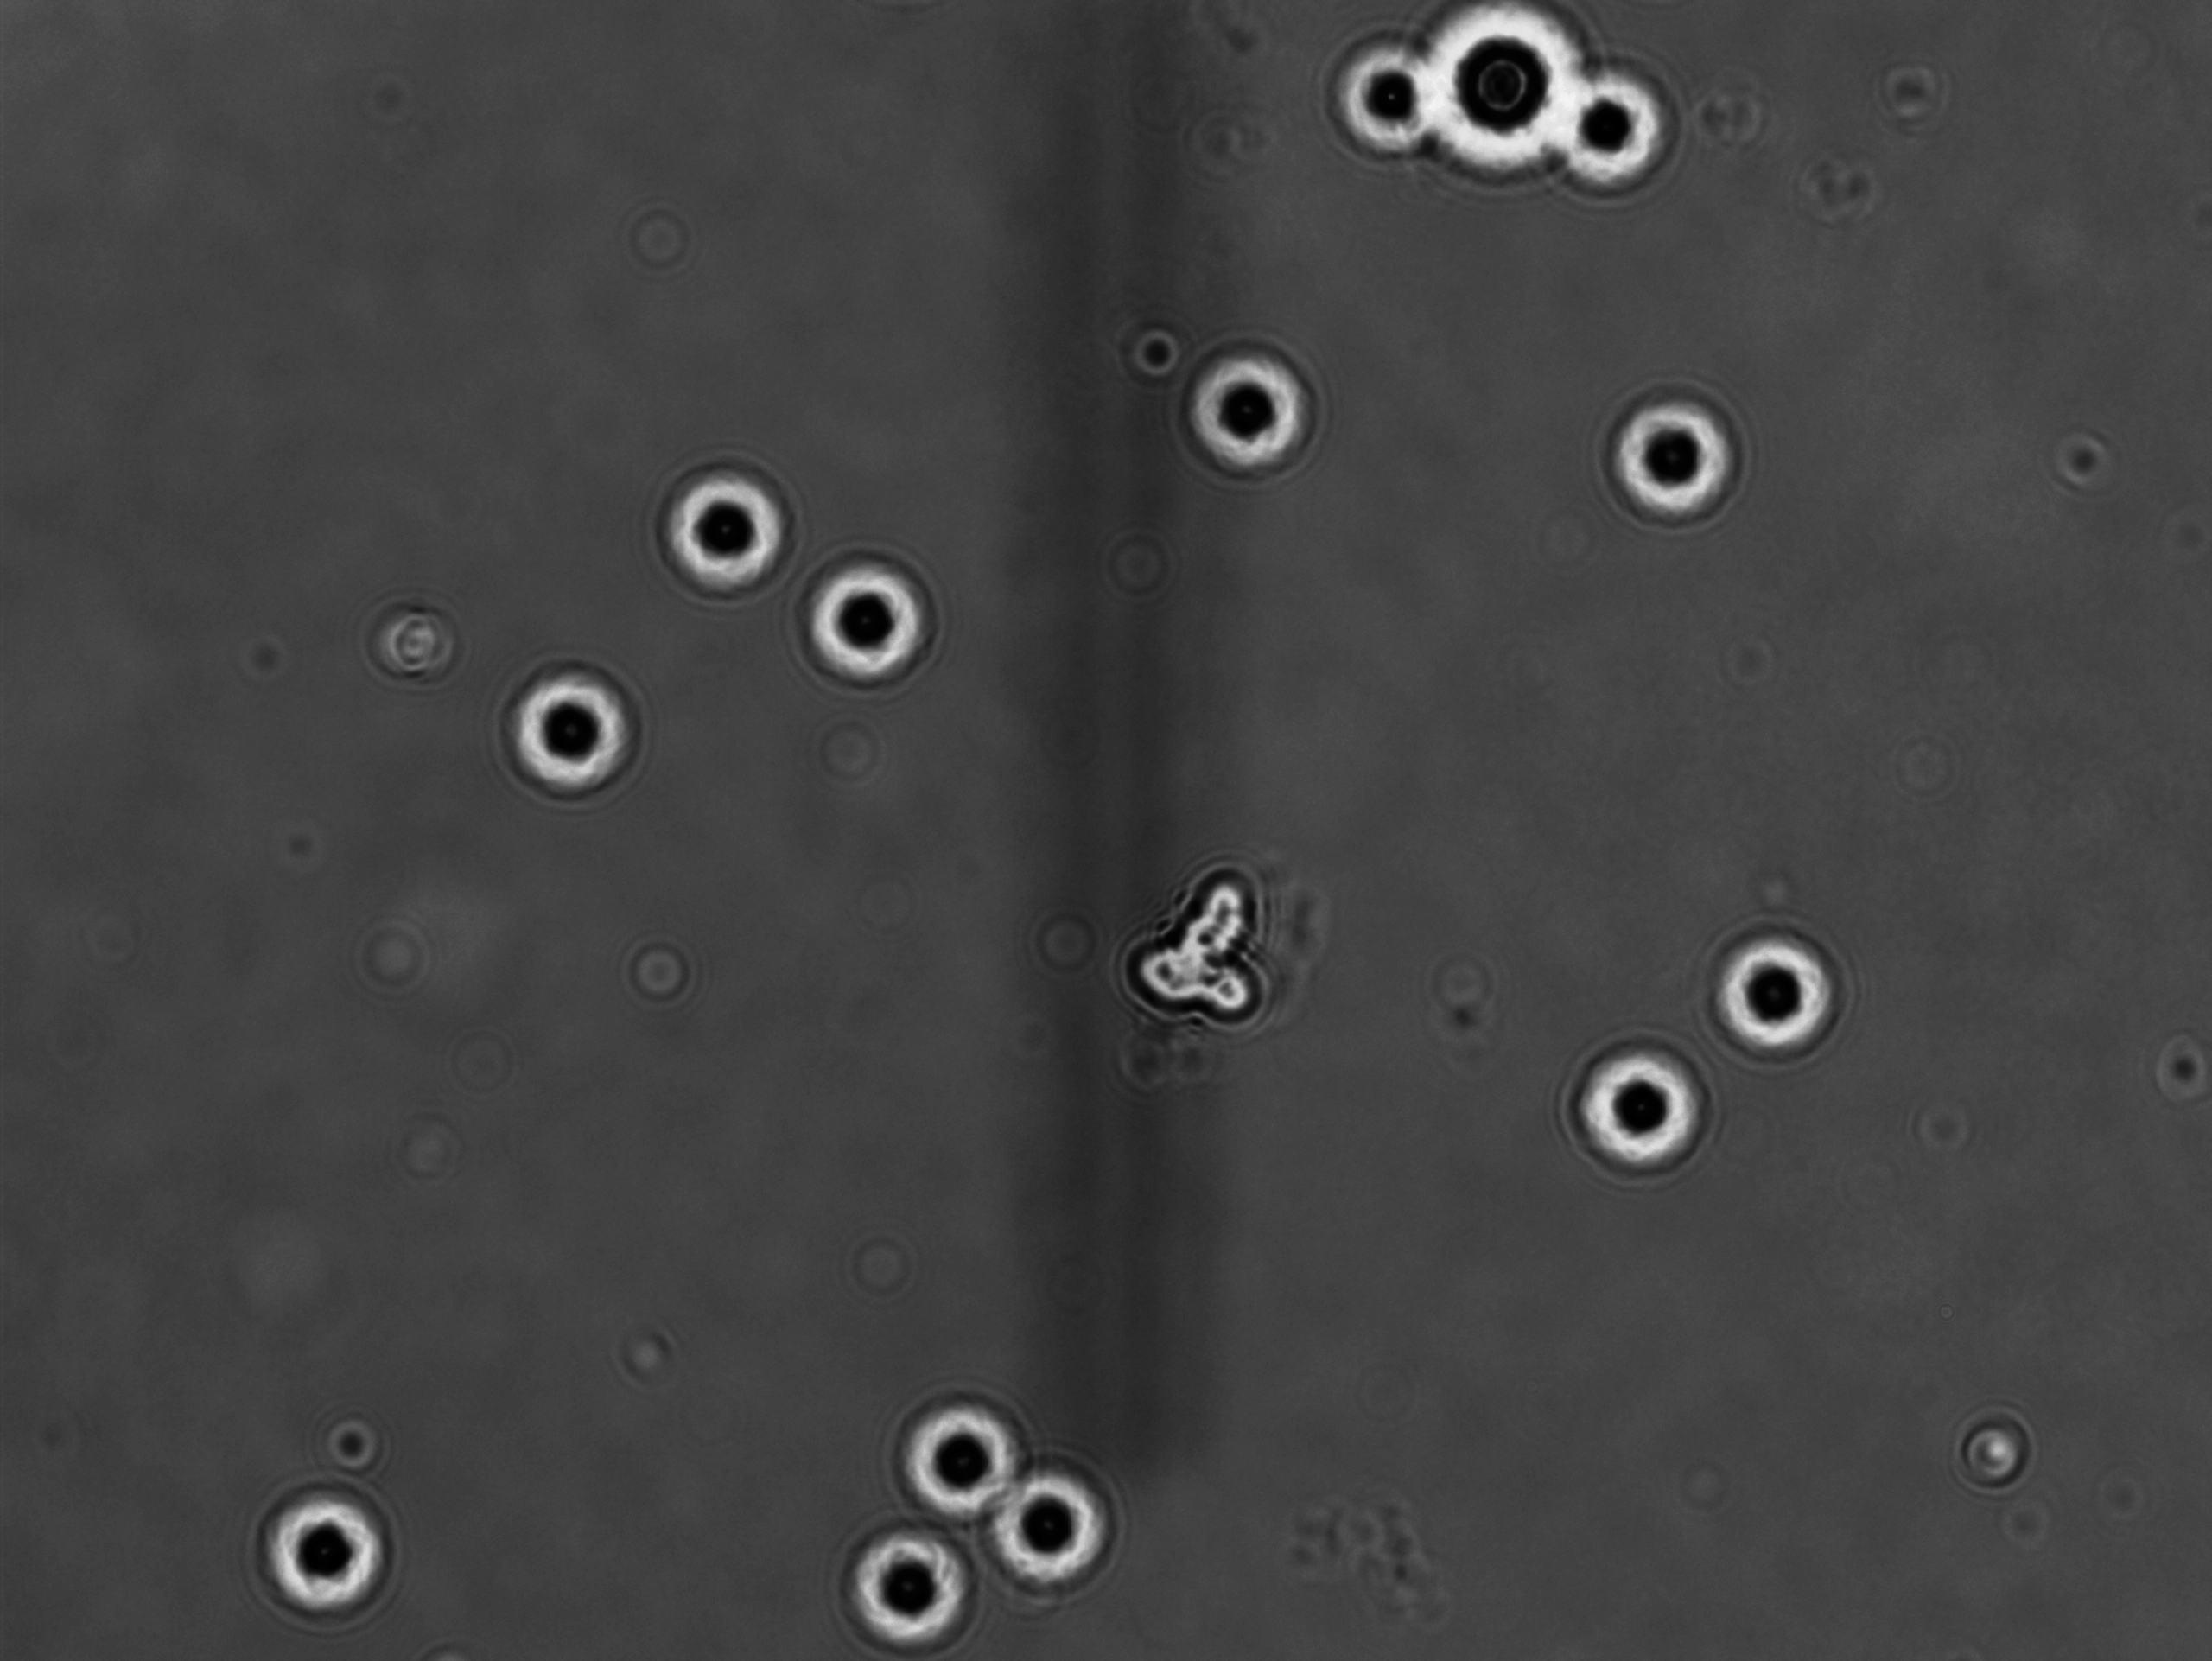depth:-20: (473, 635, 684, 822), (1553, 1000, 1732, 1195), (1148, 323, 1333, 509), (229, 1466, 415, 1631), (632, 429, 802, 609), (1680, 902, 1856, 1070), (1591, 373, 1757, 546), (829, 1511, 1015, 1661), (785, 543, 954, 700), (876, 1375, 1041, 1527), (989, 1462, 1150, 1600)
